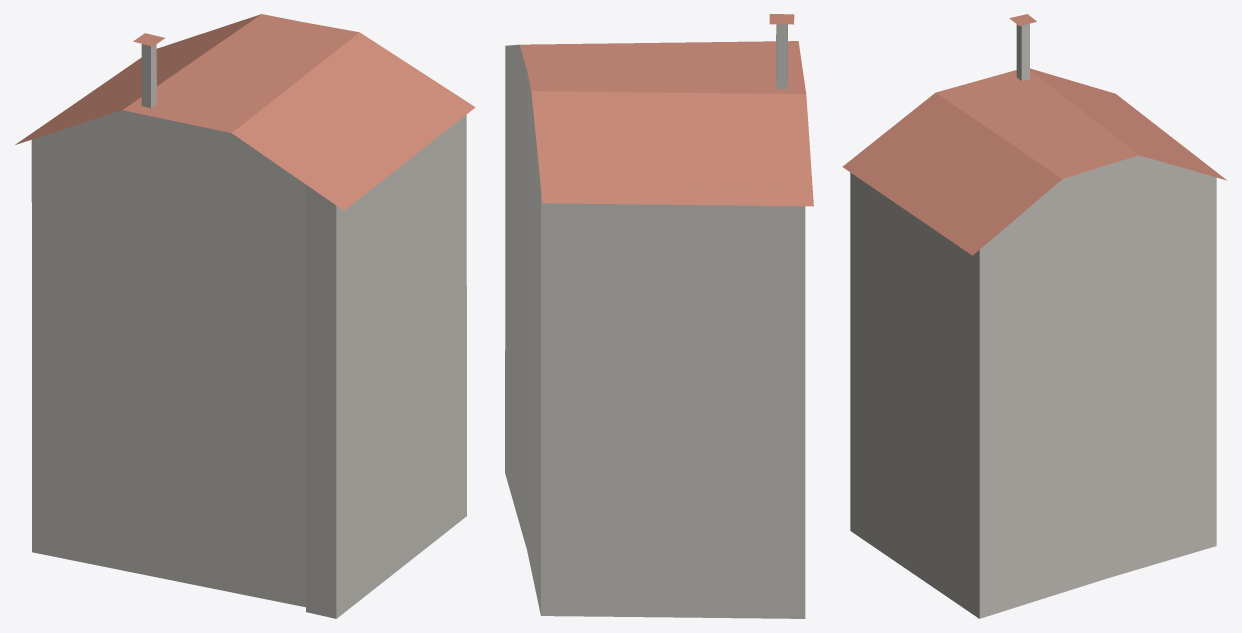
3 renders of one model, left to right at view 1: azimuth 30°, elevation 25°; view 2: azimuth 150°, elevation 25°; view 3: azimuth 270°, elevation 25°, orthographic. The views are drawn at different scales.
Parts seen in each view (by area): view 1: swisstopo:swissbuildings3d:2b9b51b1-9964-415c-bc9b-1022989a9; view 2: swisstopo:swissbuildings3d:2b9b51b1-9964-415c-bc9b-1022989a9; view 3: swisstopo:swissbuildings3d:2b9b51b1-9964-415c-bc9b-1022989a9.
Boxes of the visible parts, box(x1,y1,x2,y2) form: swisstopo:swissbuildings3d:2b9b51b1-9964-415c-bc9b-1022989a9: box(15, 14, 475, 618); swisstopo:swissbuildings3d:2b9b51b1-9964-415c-bc9b-1022989a9: box(505, 14, 813, 618); swisstopo:swissbuildings3d:2b9b51b1-9964-415c-bc9b-1022989a9: box(842, 14, 1226, 618).
Size of the model in its own units: 17.43 by 23.17 by 17.16.
